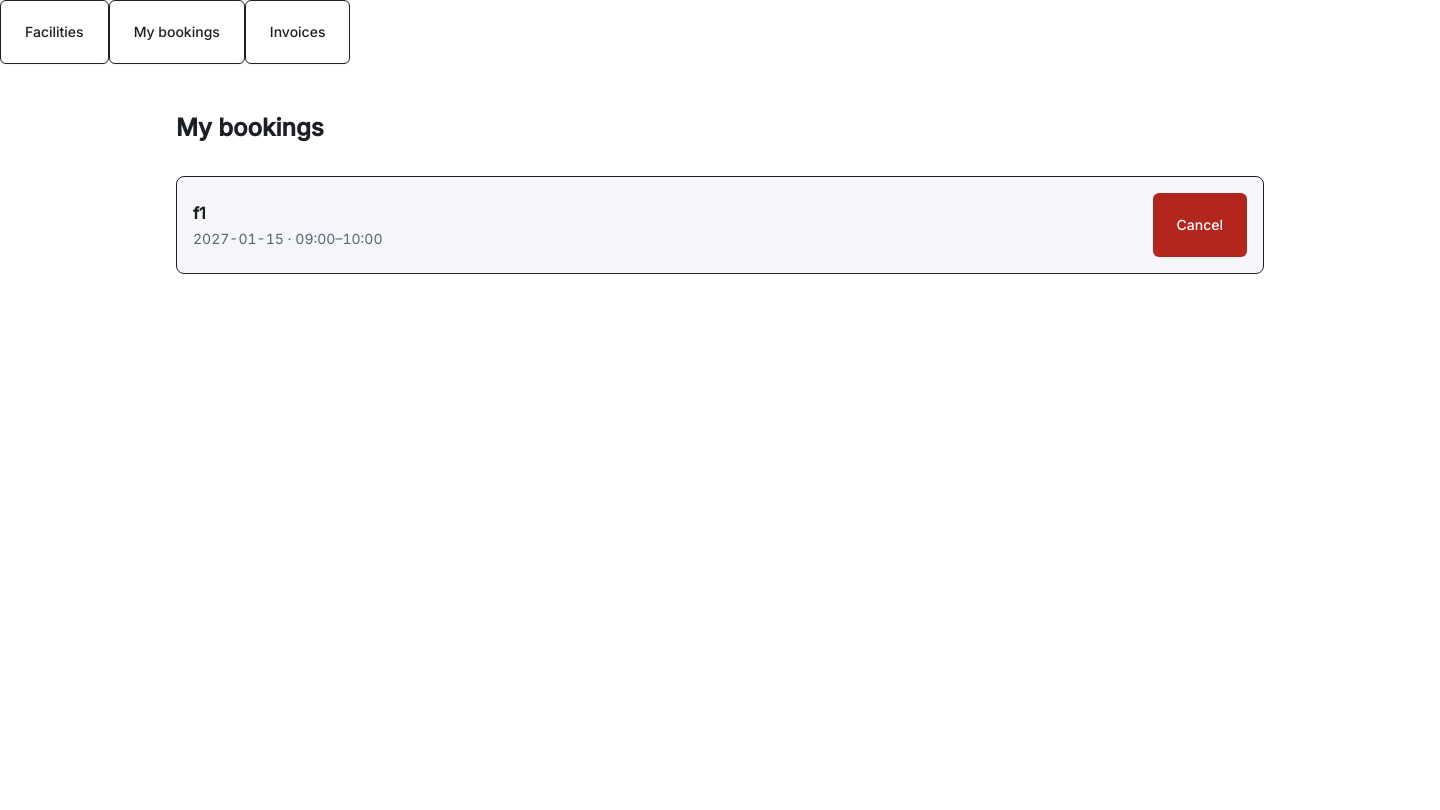
cancellation dialog › opens confirm dialog when Cancel clicked
Click the button "Cancel" at [1200, 225], box [1152,193,1247,257]
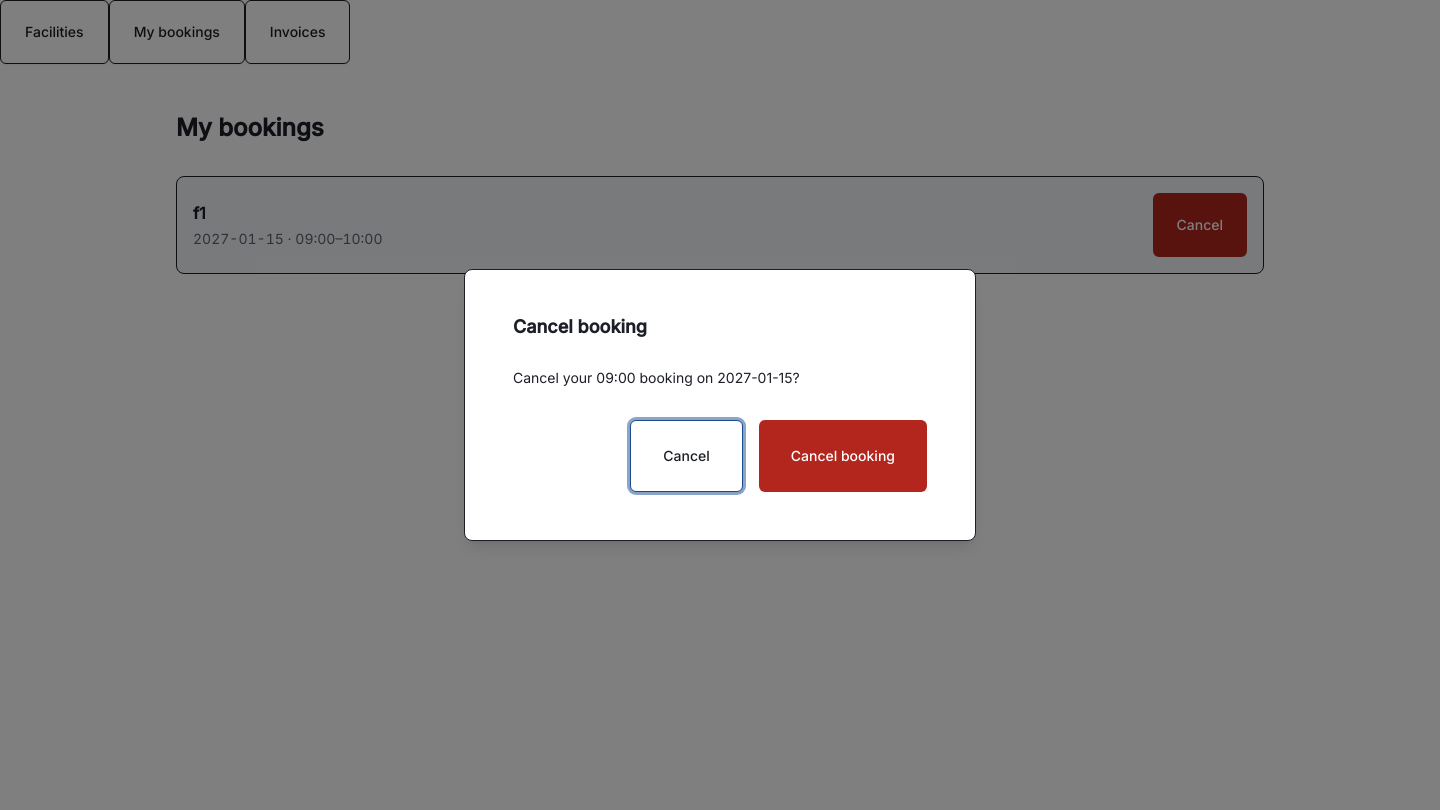
Result: the dialog is shown at [464,269,976,541]
Result: the text "Cancel your 09:00 booking on 2027-01-15?" is shown at [513,369,800,386]
